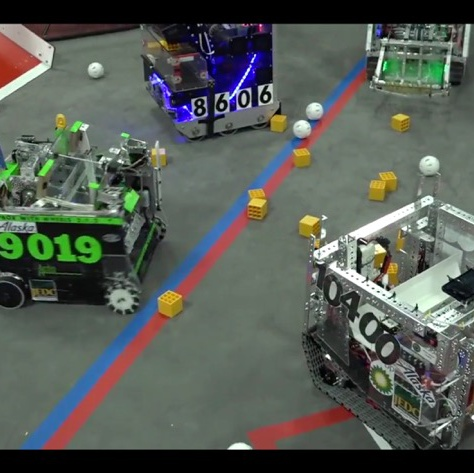robot: (302, 171, 474, 451), (0, 108, 172, 317), (136, 22, 285, 144), (359, 24, 472, 101)
